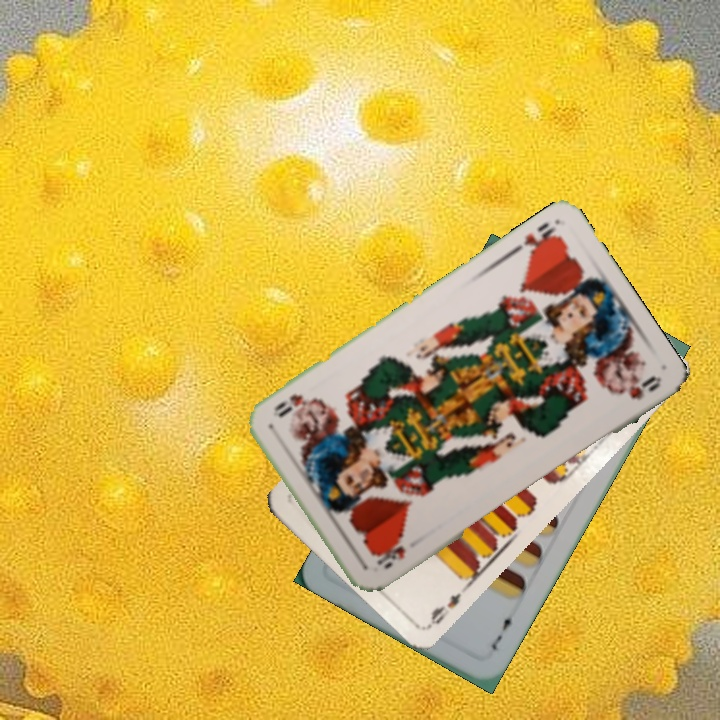E7: (487, 609, 518, 654)
E9: (423, 588, 464, 630)
HO: (506, 218, 563, 260), (372, 536, 408, 572)
